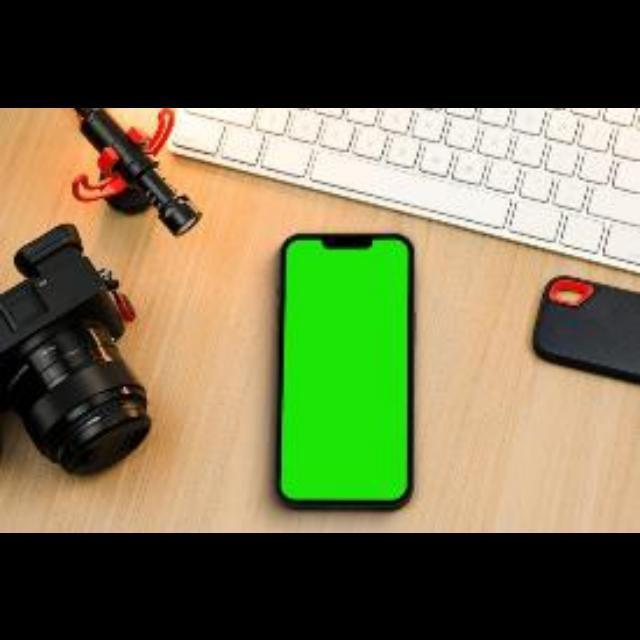PhoneUse: (278, 232, 417, 512)
